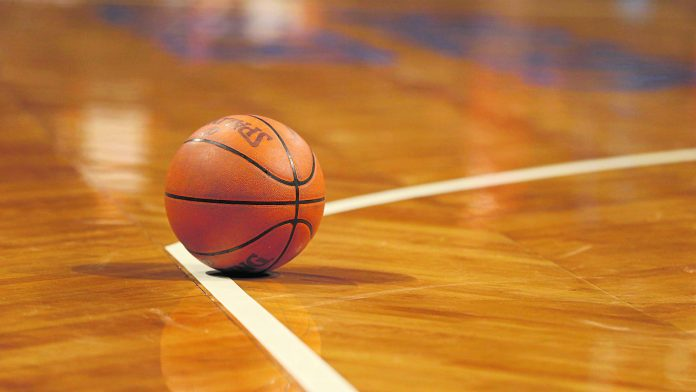Basketball: (162, 112, 329, 280)
